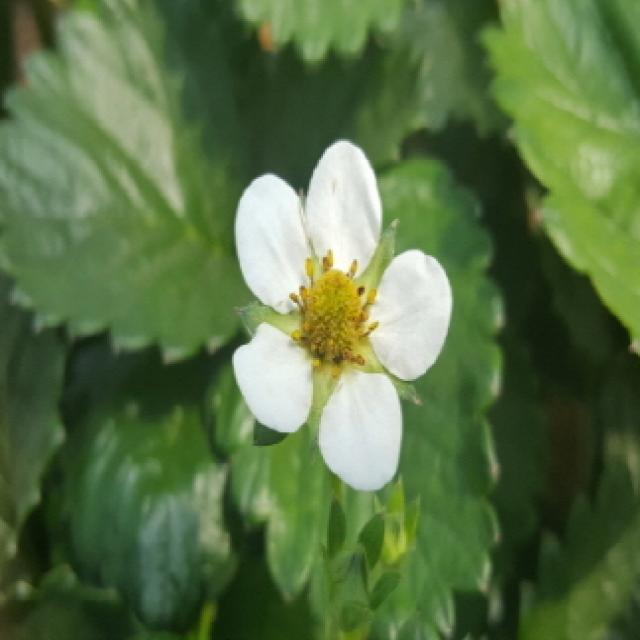Blossom Blight: (286, 245, 386, 383)
